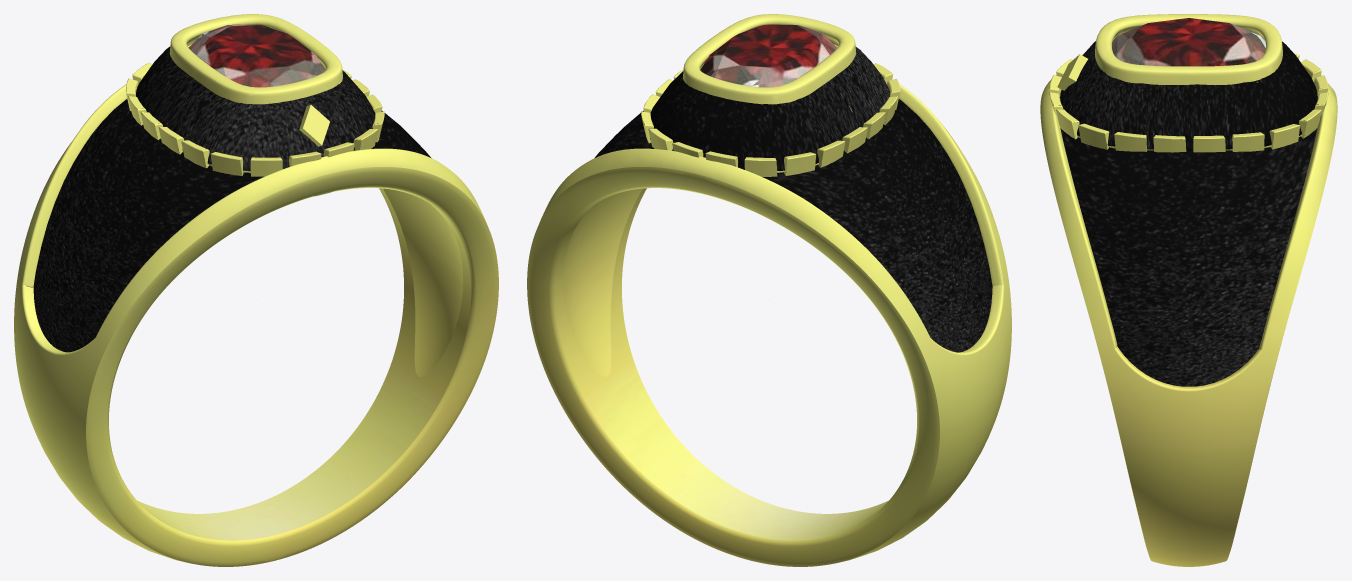
The model's file is ring23.glb.
The picture shows the model from 3 angles, left to right: view 1: azimuth 30°, elevation 25°; view 2: azimuth 150°, elevation 25°; view 3: azimuth 270°, elevation 25°; orthographic projection.
Visible parts, largest first — view 1: body, black, core; view 2: body, black, core; view 3: black, body, core.
Boxes of the visible parts, box(x1,y1,x2,y2) form: body: box(14, 14, 498, 566); black: box(33, 46, 430, 352); core: box(189, 24, 325, 87); body: box(527, 14, 1011, 566); black: box(595, 47, 992, 352); core: box(700, 24, 836, 87); black: box(1059, 41, 1318, 386); body: box(1040, 14, 1337, 566); core: box(1112, 18, 1265, 66).
Size of the model in its own units: 26.18 by 29.47 by 15.64.
4 materials, 4 textured.
